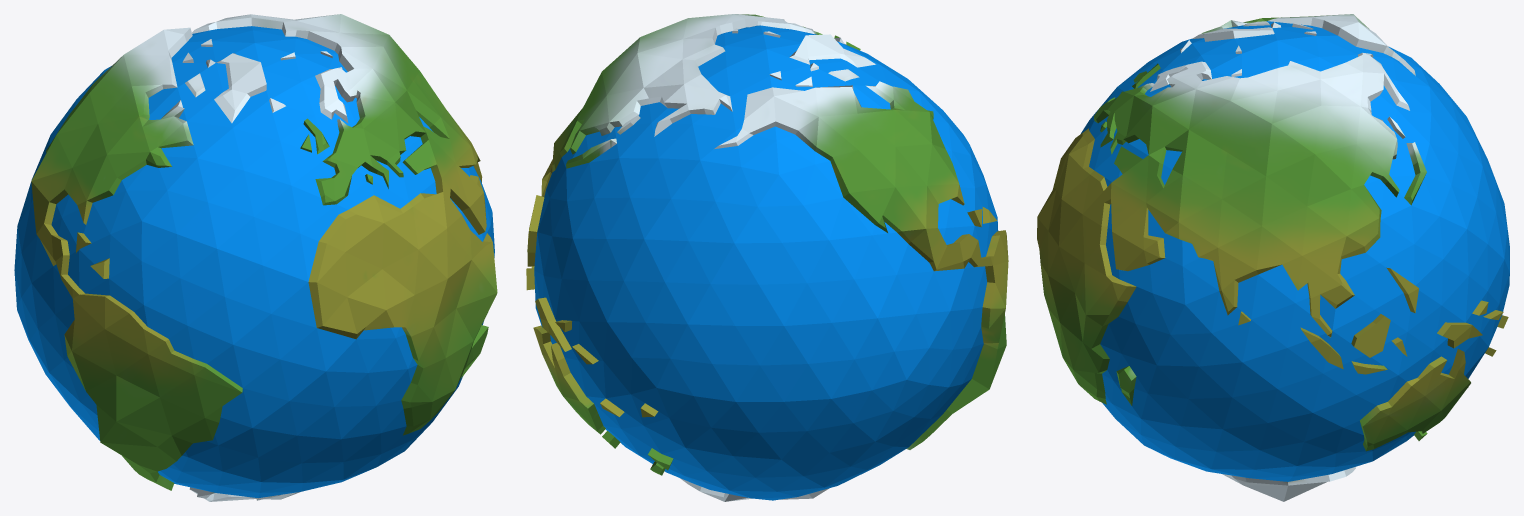
3 views of the same model, side by side, from view 1: azimuth 30°, elevation 25°; view 2: azimuth 150°, elevation 25°; view 3: azimuth 270°, elevation 25° (orthographic). The views are drawn at different scales.
Visible parts, largest first — view 1: earth4; view 2: earth4; view 3: earth4.
Boxes of the visible parts, x1,y1,x2,y2 form: earth4: [14, 14, 497, 501]; earth4: [526, 14, 1008, 501]; earth4: [1037, 14, 1509, 501].
Bounding box in the file's own units: 17.33 × 17.94 × 17.29.
Materials: 2 (2 with a texture image).
